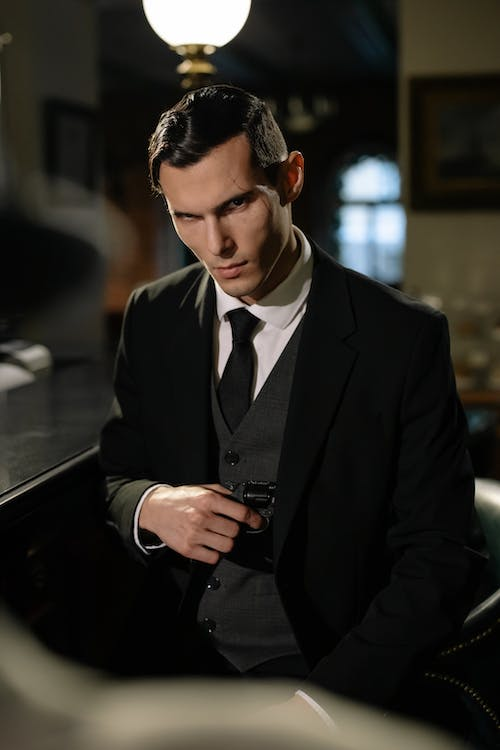gun: (232, 477, 278, 534)
